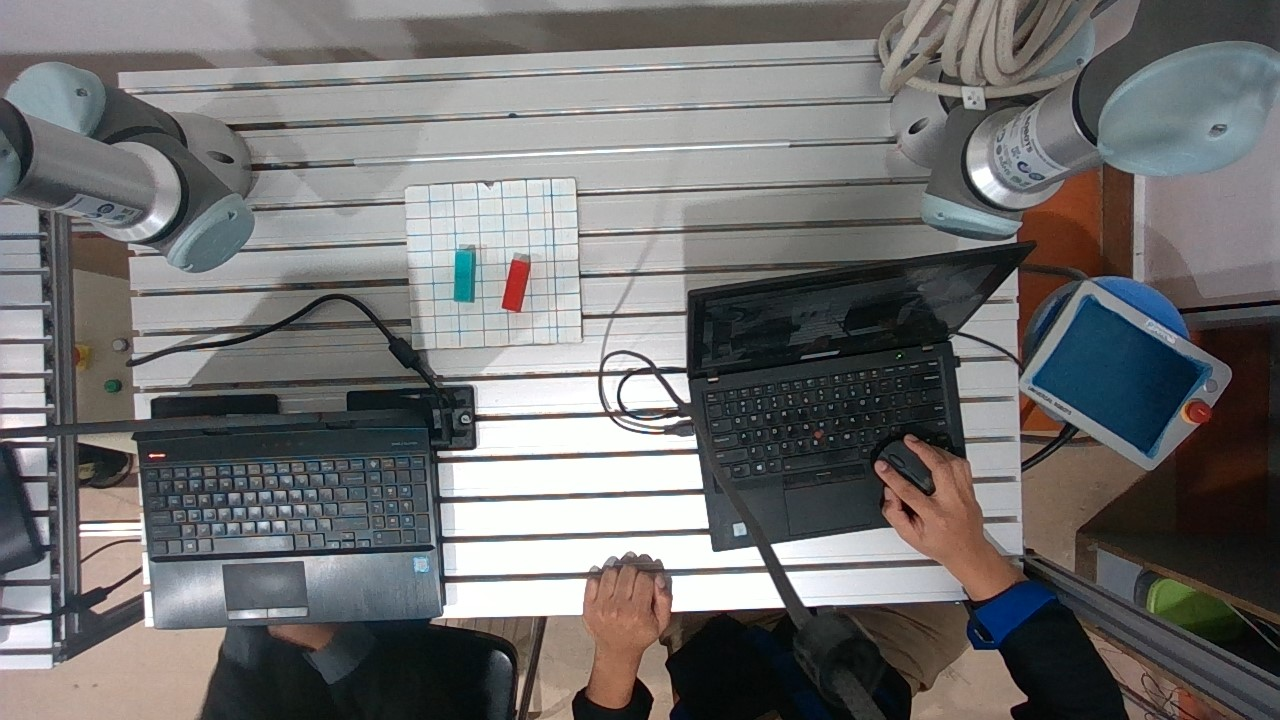box: (444, 241, 485, 305), (504, 253, 531, 320)
